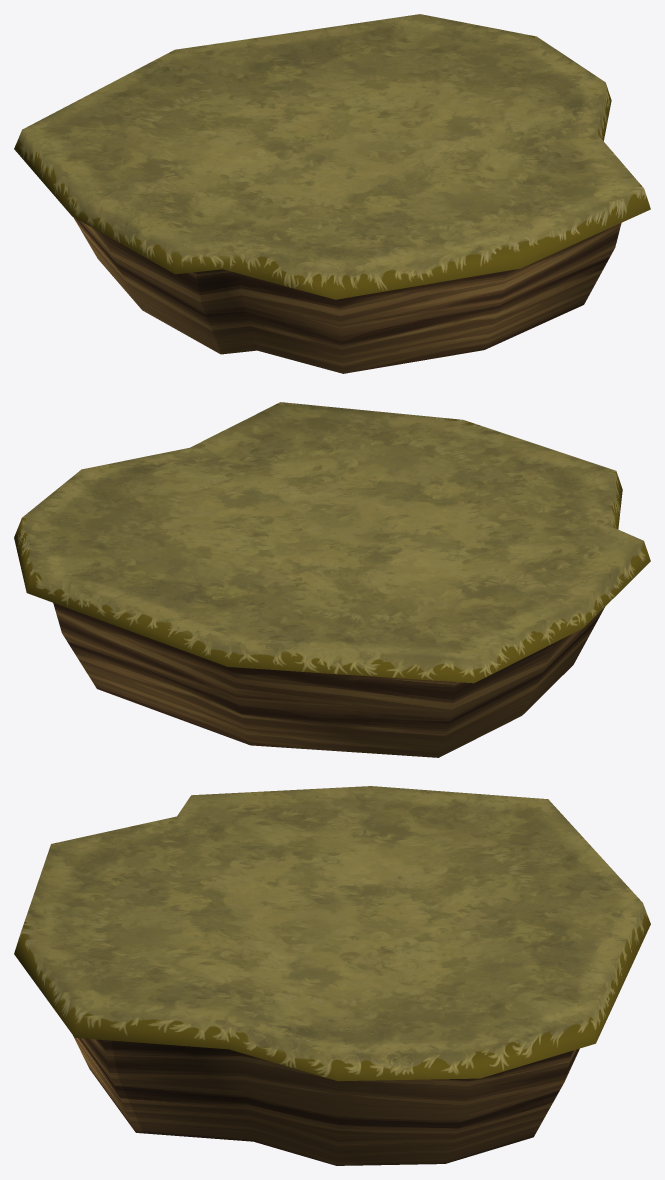
Rendered from forest_ground_02.fbx.
3 renders of one model, top to bottom at view 1: azimuth 30°, elevation 25°; view 2: azimuth 150°, elevation 25°; view 3: azimuth 270°, elevation 25°, orthographic. The views are drawn at different scales.
Visible parts, largest first — view 1: forest_ground_02:Mesh; view 2: forest_ground_02:Mesh; view 3: forest_ground_02:Mesh.
Part boxes in pixels (box(x1,y1,x2,y2)): forest_ground_02:Mesh: box(14, 14, 650, 373); forest_ground_02:Mesh: box(14, 402, 650, 757); forest_ground_02:Mesh: box(14, 786, 650, 1165).
Size of the model in its own units: 17.73 by 4.1 by 17.25.
